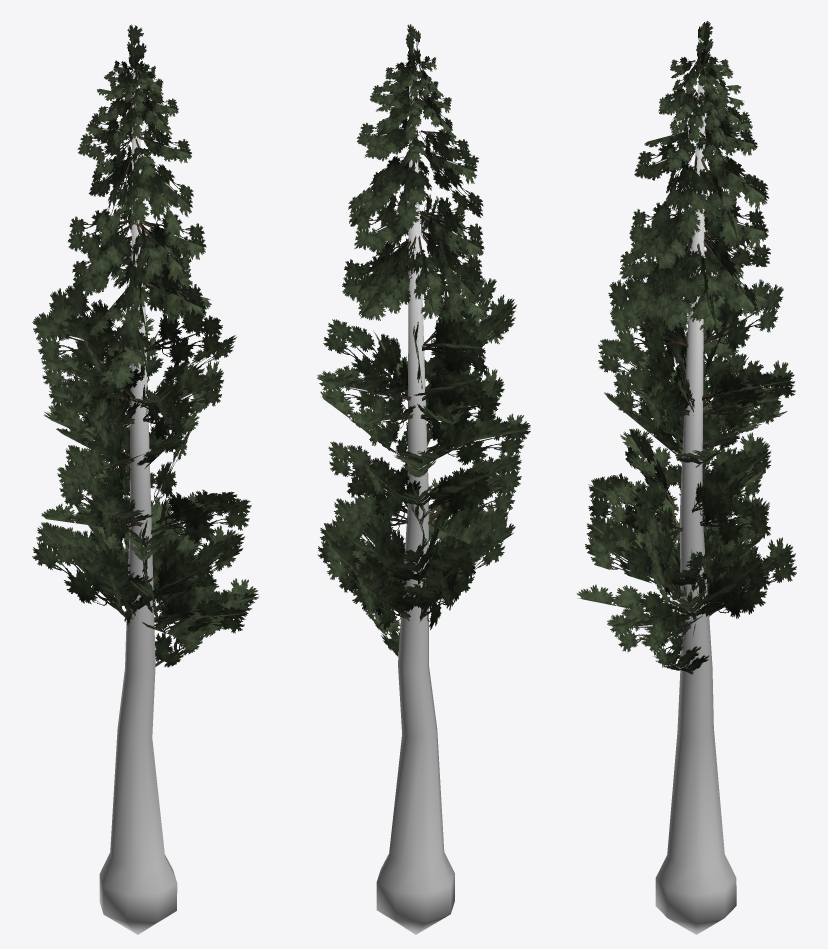
File: Pine_12.fbx
The picture shows the model from 3 angles, left to right: view 1: azimuth 30°, elevation 25°; view 2: azimuth 150°, elevation 25°; view 3: azimuth 270°, elevation 25°; orthographic projection.
Visible parts, largest first — view 1: polySurface1; view 2: polySurface1; view 3: polySurface1.
Boxes of the visible parts, x1,y1,x2,y2 form: polySurface1: (32, 24, 258, 934); polySurface1: (317, 24, 530, 934); polySurface1: (576, 21, 796, 934).
Bounding box in the file's own units: 4.6 × 18.39 × 4.46.
